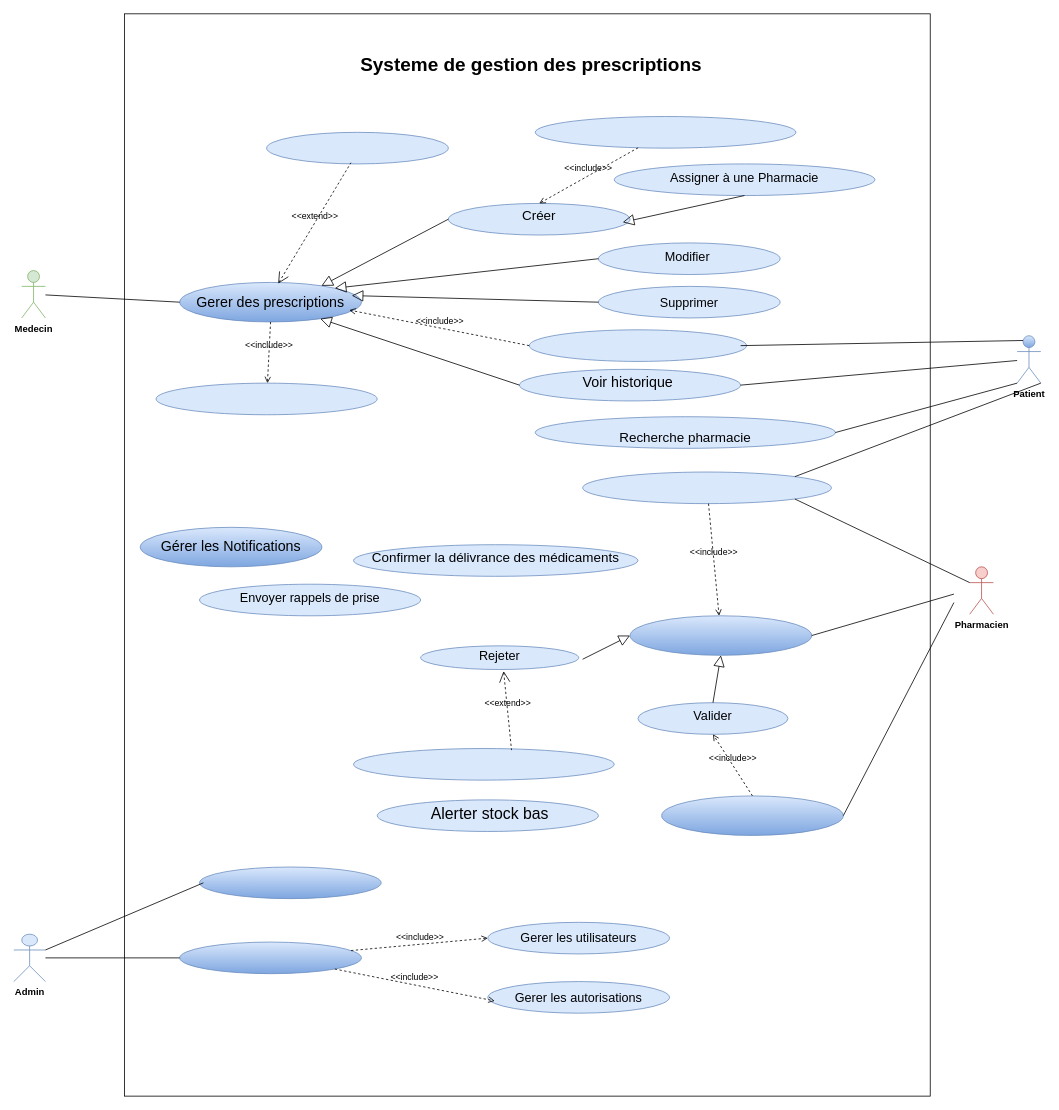
The diagram is 1059 pixels wide and 1110 high, and some of its shapes have lost their labels. The shapes that lost their labels are listed below. From the top down, each one's centre as x and y in pixels, then its label:
At (357,148): "Renouveler".
At (665,132): "Générer un Code Sécurisé".
At (637,345): "Vérifier l’état".
At (266,398): "Notifier patient".
At (706,487): "Valider le code".
At (720,635): "Traiter les prescriptions".
At (483,764): "Proposer un Médicament Équivalent".
At (752,815): "Mettre a jour le stock".
At (290,882): "Gerer profil".
At (270,957): "Administration".
